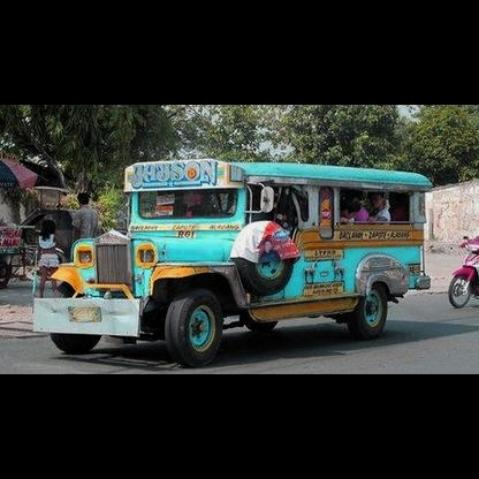jeepney: (37, 146, 431, 356)
